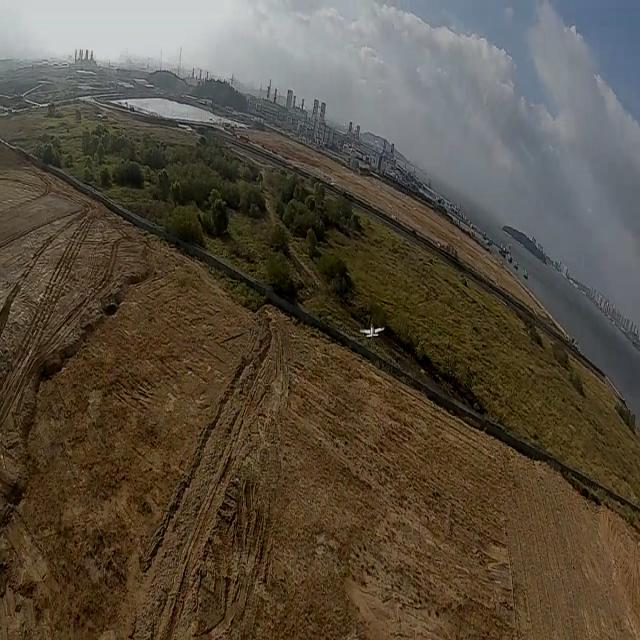iha: (358, 316, 385, 333)
